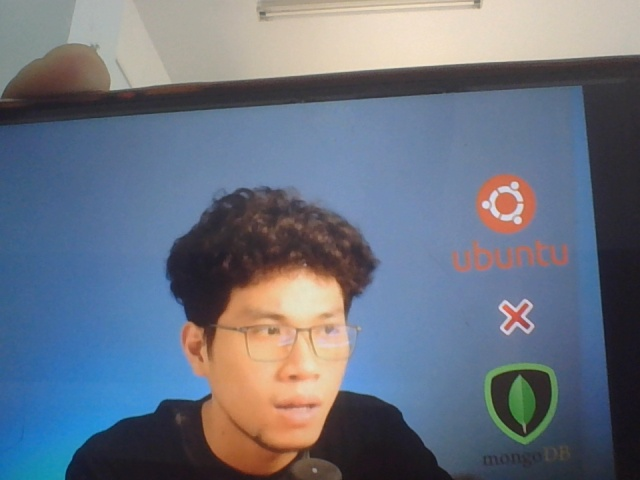fake: (188, 206, 364, 455)
